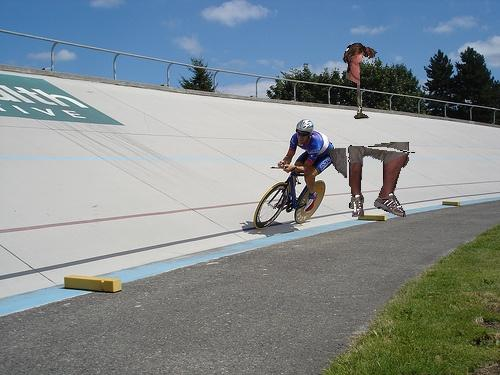tampered: (329, 44, 415, 217)
